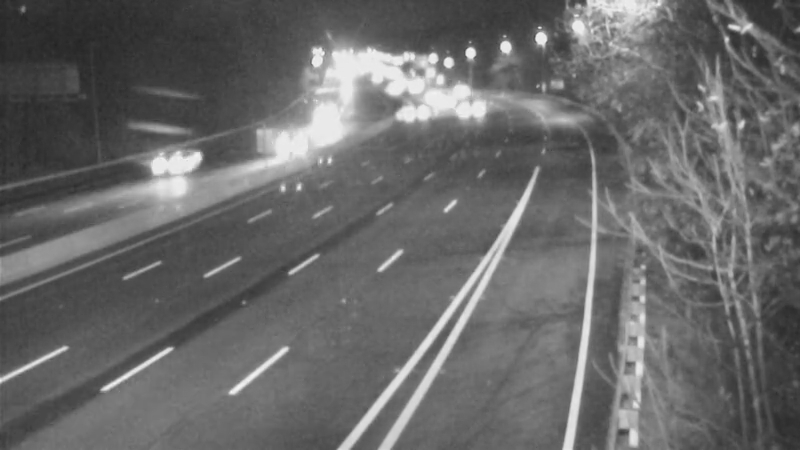vehicle: (127, 126, 207, 206), (437, 63, 487, 113), (366, 64, 416, 114), (402, 72, 452, 122), (413, 78, 463, 128), (449, 86, 499, 136), (267, 123, 317, 173), (297, 91, 347, 141)
